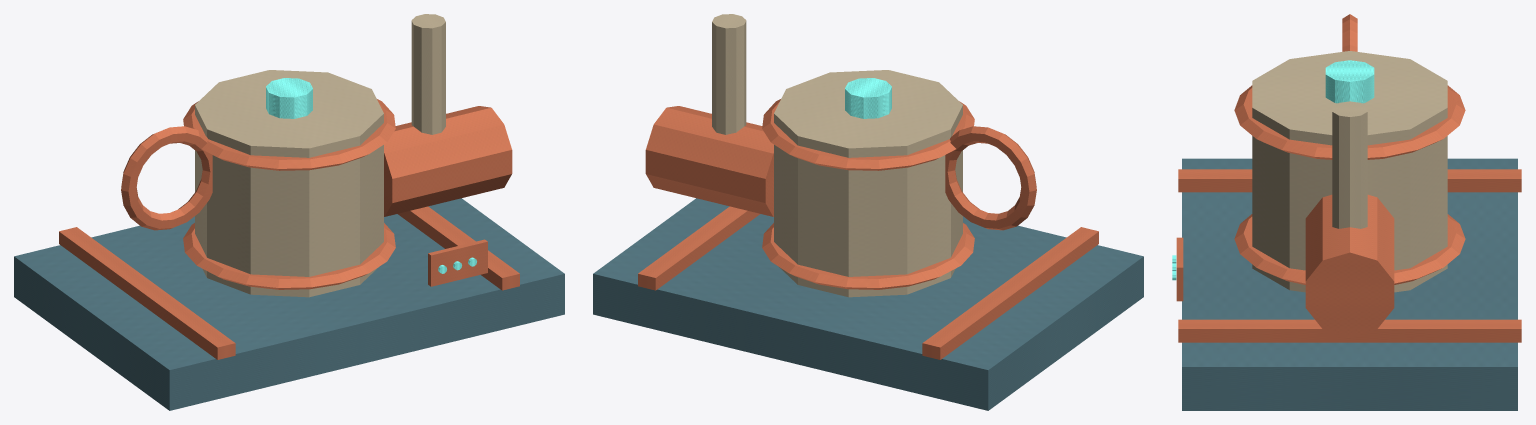
File: atlas100-s042-a02.glb
3 renders of one model, left to right at view 1: azimuth 30°, elevation 25°; view 2: azimuth 150°, elevation 25°; view 3: azimuth 270°, elevation 25°, orthographic. The views are drawn at different scales.
Visible parts, largest first — view 1: atlas100-s042-a02:part-000, atlas100-s042-a02:part-003, atlas100-s042-a02:part-007, atlas100-s042-a02:part-001, atlas100-s042-a02:part-009, atlas100-s042-a02:part-008, atlas100-s042-a02:part-004, atlas100-s042-a02:part-005, atlas100-s042-a02:part-002, atlas100-s042-a02:part-010, atlas100-s042-a02:part-006; view 2: atlas100-s042-a02:part-000, atlas100-s042-a02:part-003, atlas100-s042-a02:part-007, atlas100-s042-a02:part-001, atlas100-s042-a02:part-009, atlas100-s042-a02:part-008, atlas100-s042-a02:part-004, atlas100-s042-a02:part-005, atlas100-s042-a02:part-002, atlas100-s042-a02:part-006; view 3: atlas100-s042-a02:part-000, atlas100-s042-a02:part-003, atlas100-s042-a02:part-007, atlas100-s042-a02:part-002, atlas100-s042-a02:part-008, atlas100-s042-a02:part-005, atlas100-s042-a02:part-001, atlas100-s042-a02:part-004, atlas100-s042-a02:part-006, atlas100-s042-a02:part-009, atlas100-s042-a02:part-010.
Boxes of the visible parts, <box> form: atlas100-s042-a02:part-000: <box>14,198,564,410</box>; atlas100-s042-a02:part-003: <box>195,70,383,297</box>; atlas100-s042-a02:part-007: <box>384,106,512,216</box>; atlas100-s042-a02:part-001: <box>59,227,235,359</box>; atlas100-s042-a02:part-009: <box>121,126,212,230</box>; atlas100-s042-a02:part-008: <box>411,14,445,134</box>; atlas100-s042-a02:part-004: <box>183,223,395,289</box>; atlas100-s042-a02:part-005: <box>183,99,395,170</box>; atlas100-s042-a02:part-002: <box>398,206,519,290</box>; atlas100-s042-a02:part-010: <box>428,239,487,286</box>; atlas100-s042-a02:part-006: <box>266,78,312,118</box>; atlas100-s042-a02:part-000: <box>593,198,1143,410</box>; atlas100-s042-a02:part-003: <box>774,70,962,297</box>; atlas100-s042-a02:part-007: <box>645,106,773,216</box>; atlas100-s042-a02:part-001: <box>922,227,1098,359</box>; atlas100-s042-a02:part-009: <box>945,126,1036,230</box>; atlas100-s042-a02:part-008: <box>712,14,746,134</box>; atlas100-s042-a02:part-004: <box>762,223,974,289</box>; atlas100-s042-a02:part-005: <box>762,99,974,170</box>; atlas100-s042-a02:part-002: <box>638,206,759,290</box>; atlas100-s042-a02:part-006: <box>845,78,891,118</box>; atlas100-s042-a02:part-000: <box>1182,158,1517,410</box>; atlas100-s042-a02:part-003: <box>1252,51,1447,292</box>; atlas100-s042-a02:part-007: <box>1305,194,1394,336</box>; atlas100-s042-a02:part-002: <box>1178,319,1521,342</box>; atlas100-s042-a02:part-008: <box>1332,101,1367,228</box>; atlas100-s042-a02:part-005: <box>1234,85,1465,159</box>; atlas100-s042-a02:part-001: <box>1178,169,1521,192</box>; atlas100-s042-a02:part-004: <box>1234,214,1465,284</box>; atlas100-s042-a02:part-006: <box>1325,60,1374,103</box>; atlas100-s042-a02:part-009: <box>1342,14,1357,51</box>; atlas100-s042-a02:part-010: <box>1176,237,1183,301</box>.
Size of the model in its own units: 2.67 by 1.6 by 1.87.
Materials: 4 (4 with a texture image).
